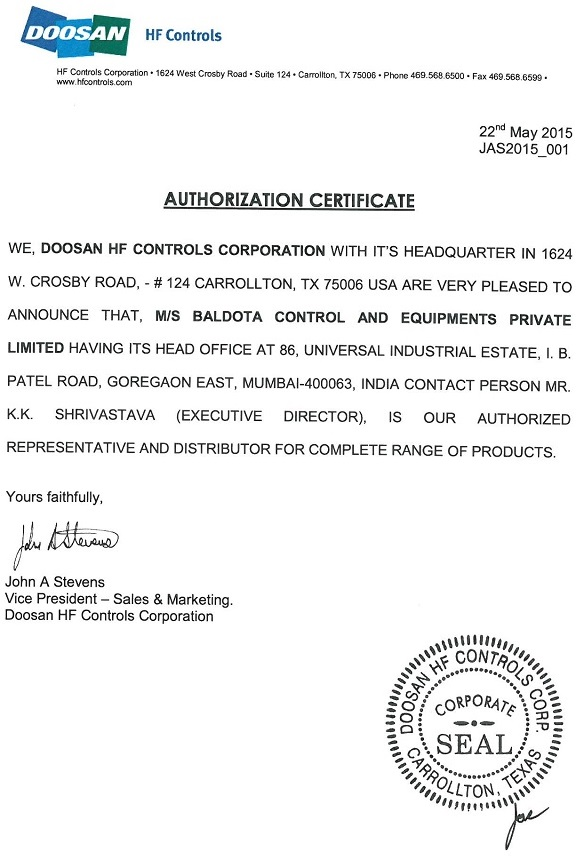Round chop: (382, 630, 569, 814)
